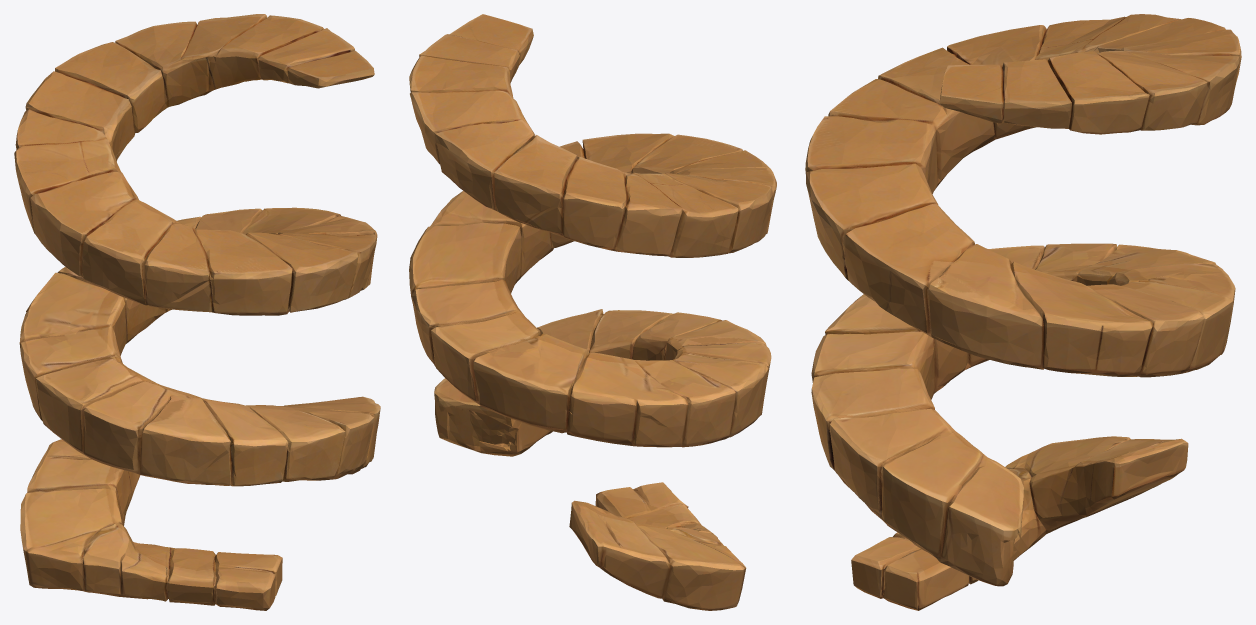
Rendered from spin 2.fbx.
3 renders of one model, left to right at view 1: azimuth 30°, elevation 25°; view 2: azimuth 150°, elevation 25°; view 3: azimuth 270°, elevation 25°, orthographic. The views are drawn at different scales.
Visible parts, largest first — view 1: temp; view 2: temp; view 3: temp.
Part boxes in pixels (x1,y1,x2,y2): temp: [14, 14, 380, 610]; temp: [409, 14, 776, 610]; temp: [805, 14, 1241, 610].
Size of the model in its own units: 140 by 199 by 137.
Materials: 1 (1 with a texture image).
